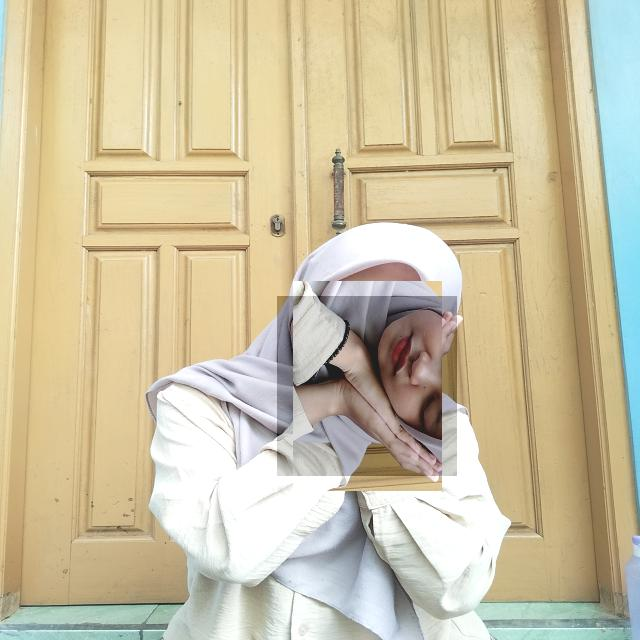tidur: (277, 296, 457, 476)
